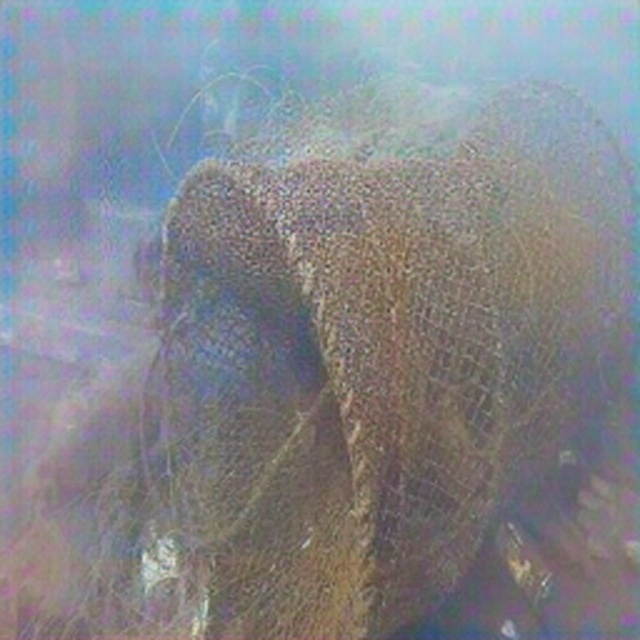mine: (154, 74, 640, 640)
